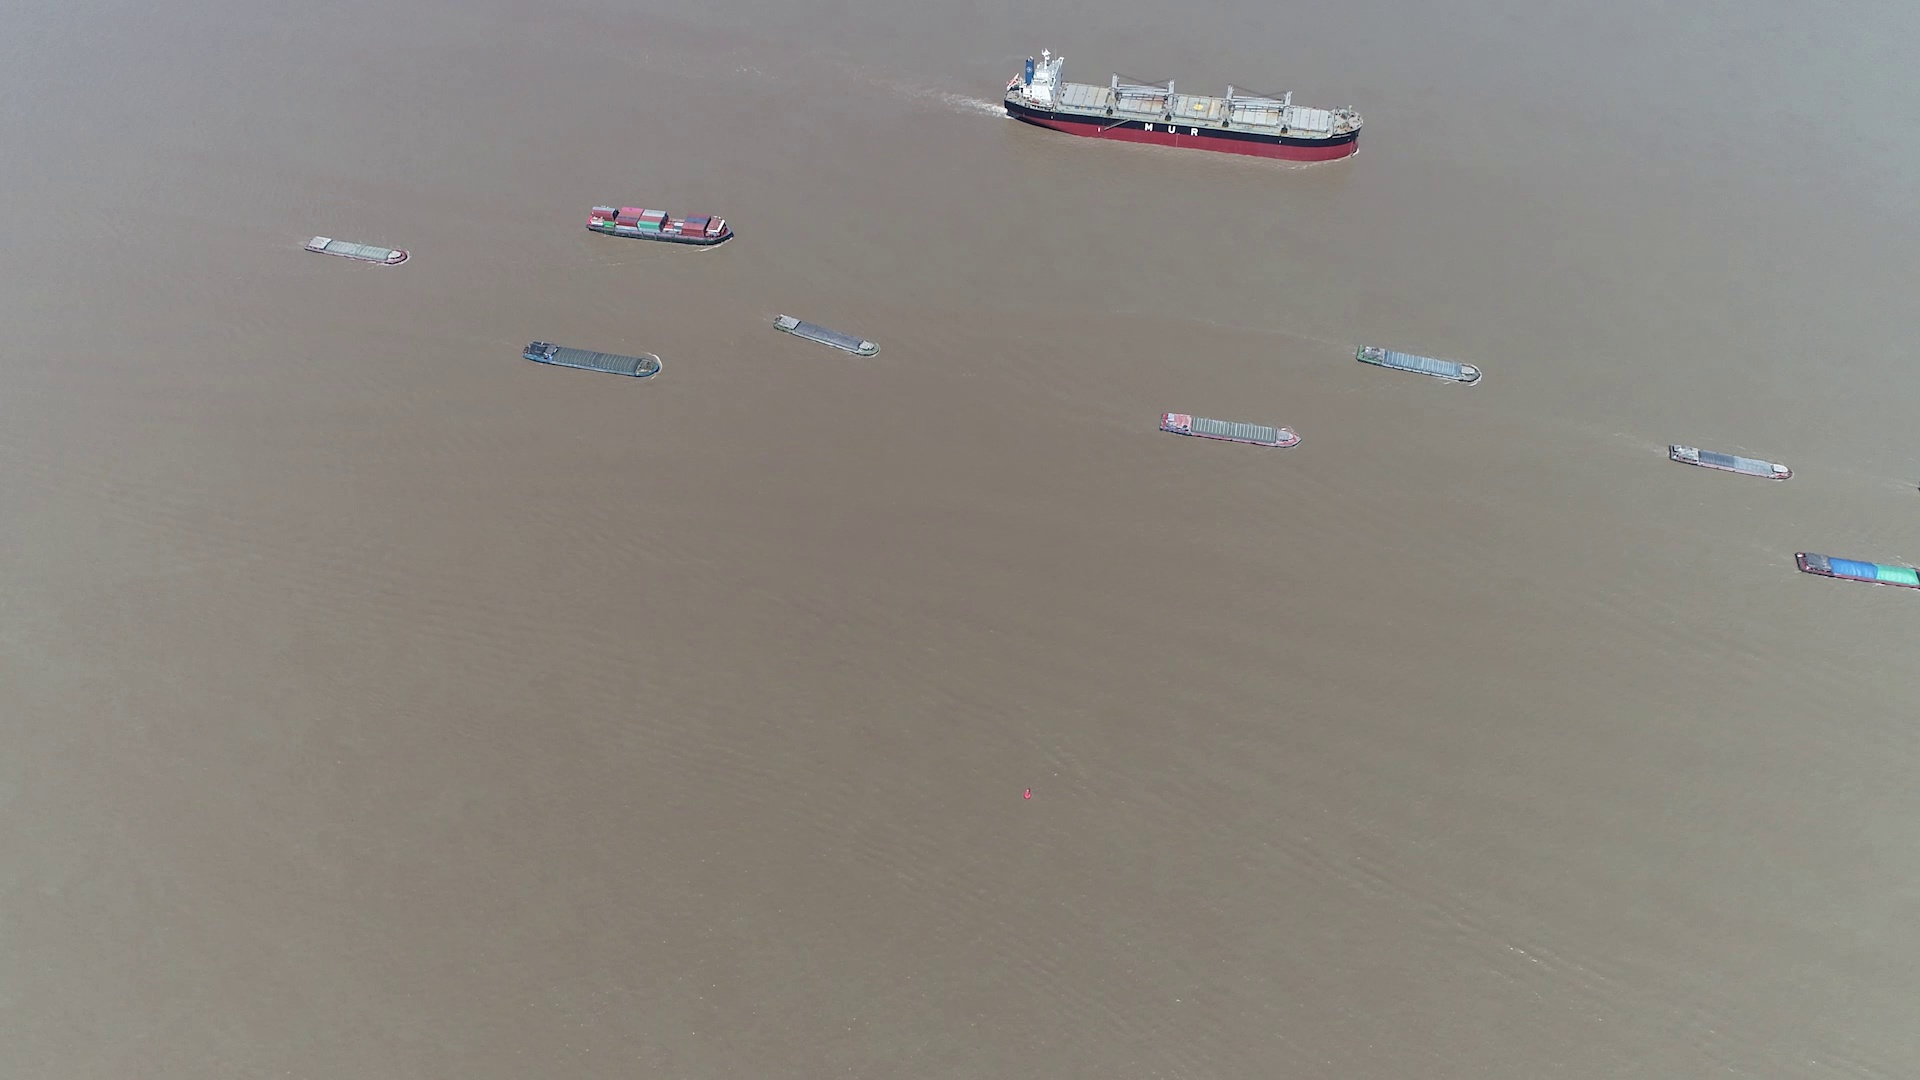ship: (1005, 53, 1364, 157), (585, 204, 735, 244), (1356, 344, 1484, 386), (1159, 410, 1300, 448), (522, 340, 659, 378), (1795, 551, 1919, 592), (1665, 443, 1789, 480), (775, 314, 880, 357), (305, 233, 410, 266)
